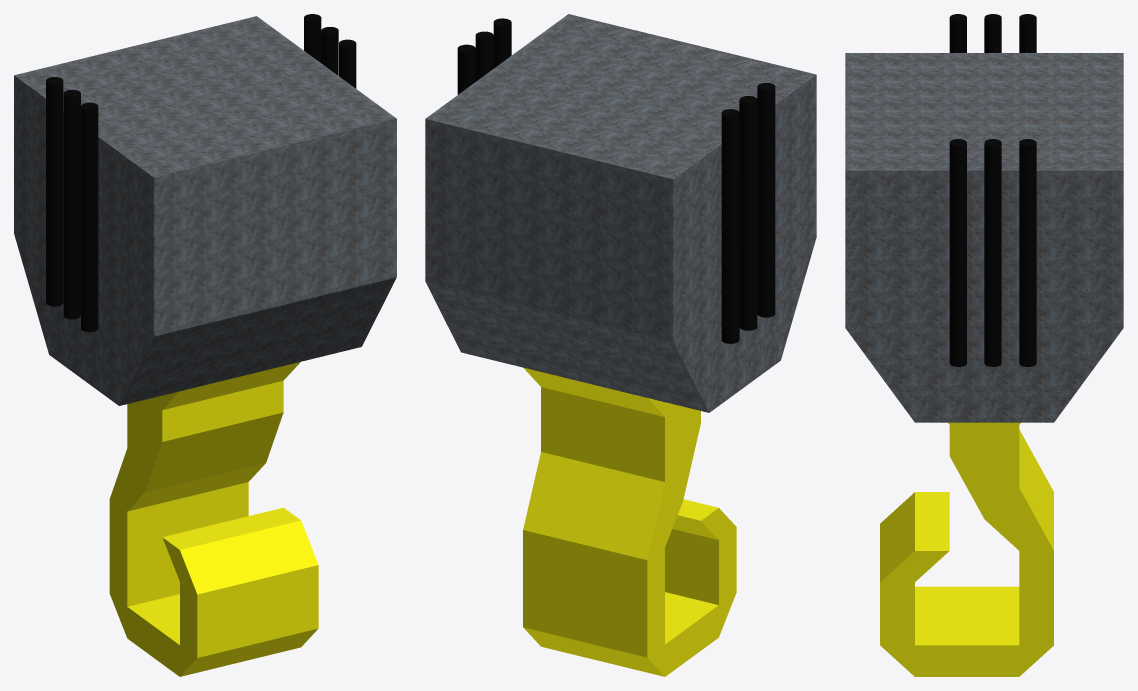
Rendered from Gancho.fbx.
3 renders of one model, left to right at view 1: azimuth 30°, elevation 25°; view 2: azimuth 150°, elevation 25°; view 3: azimuth 270°, elevation 25°, orthographic. The views are drawn at different scales.
Visible parts, largest first — view 1: material_tuberia Mesh (1), Gancho Mesh (1), Neumaticos Mesh (1); view 2: material_tuberia Mesh (1), Gancho Mesh (1), Neumaticos Mesh (1); view 3: material_tuberia Mesh (1), Gancho Mesh (1), Neumaticos Mesh (1).
Boxes of the visible parts, left/top/right/bottom form: material_tuberia Mesh (1): left=14, top=16, right=396, bottom=405; Gancho Mesh (1): left=109, top=362, right=318, bottom=676; Neumaticos Mesh (1): left=46, top=14, right=356, bottom=332; material_tuberia Mesh (1): left=425, top=14, right=816, bottom=412; Gancho Mesh (1): left=523, top=367, right=736, bottom=676; Neumaticos Mesh (1): left=457, top=18, right=775, bottom=343; material_tuberia Mesh (1): left=845, top=53, right=1123, bottom=422; Gancho Mesh (1): left=880, top=422, right=1053, bottom=676; Neumaticos Mesh (1): left=949, top=14, right=1036, bottom=366.
Size of the model in its own units: 9.01 by 18 by 8.
